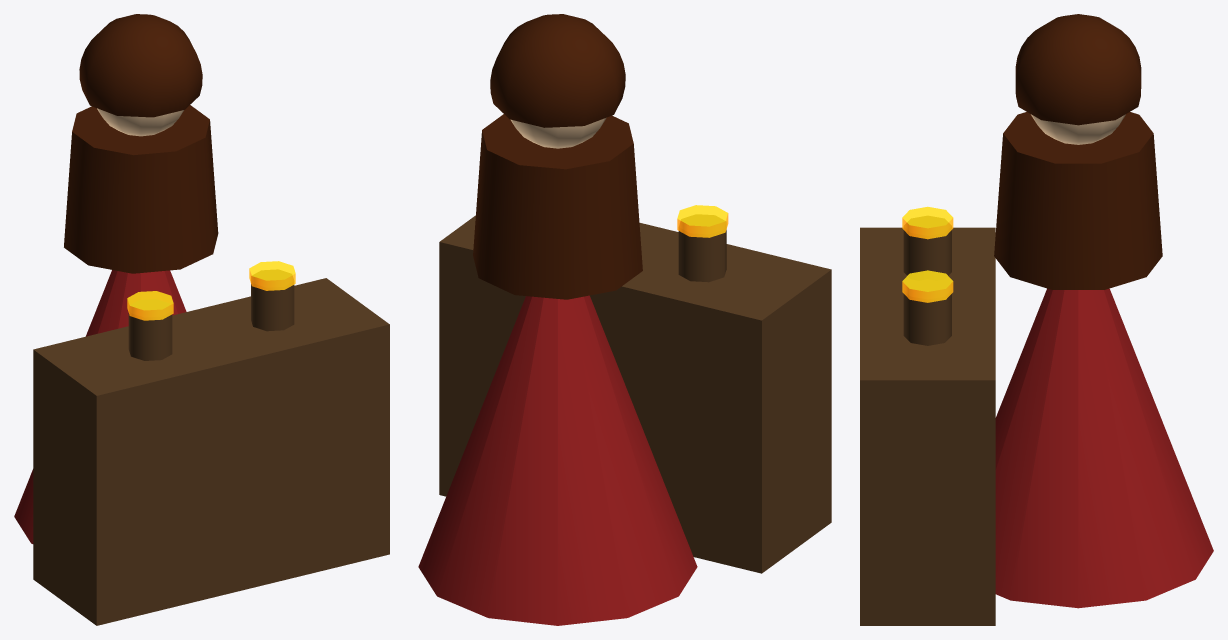
The model's file is npc_lumen_barmaid.glb.
The picture shows the model from 3 angles, left to right: view 1: azimuth 30°, elevation 25°; view 2: azimuth 150°, elevation 25°; view 3: azimuth 270°, elevation 25°; orthographic projection. The views are drawn at different scales.
Visible parts, largest first — view 1: NPC_LUMEN_THE_BARMAID; view 2: NPC_LUMEN_THE_BARMAID; view 3: NPC_LUMEN_THE_BARMAID.
Boxes of the visible parts, bbox=[...] form: NPC_LUMEN_THE_BARMAID: bbox=[14, 14, 389, 625]; NPC_LUMEN_THE_BARMAID: bbox=[418, 14, 831, 625]; NPC_LUMEN_THE_BARMAID: bbox=[860, 14, 1213, 625].
Bounding box in the file's own units: 1.2 × 1.94 × 1.17.
